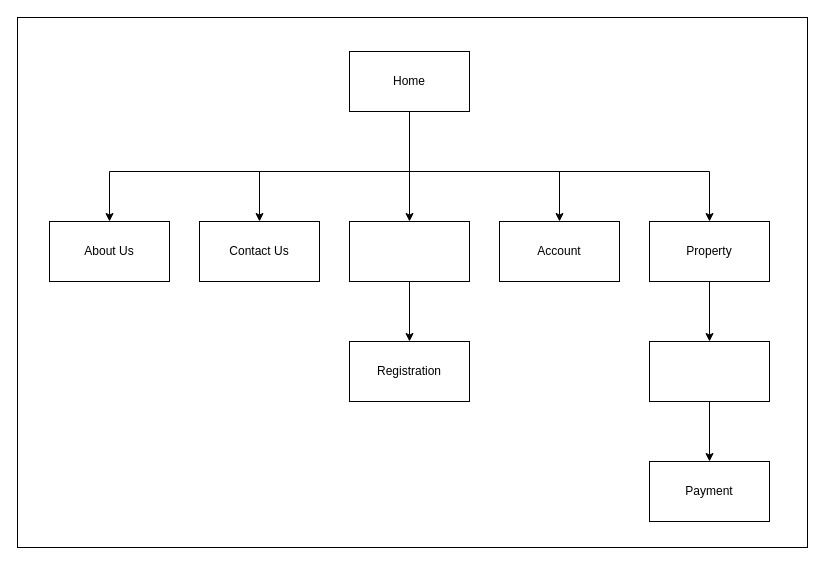
The diagram is 825 pixels wide and 565 high, and some of its shapes have lost their labels. Each missing label, with the centre of its shape:
Booking: the point at 709,371
Login: the point at 409,251
